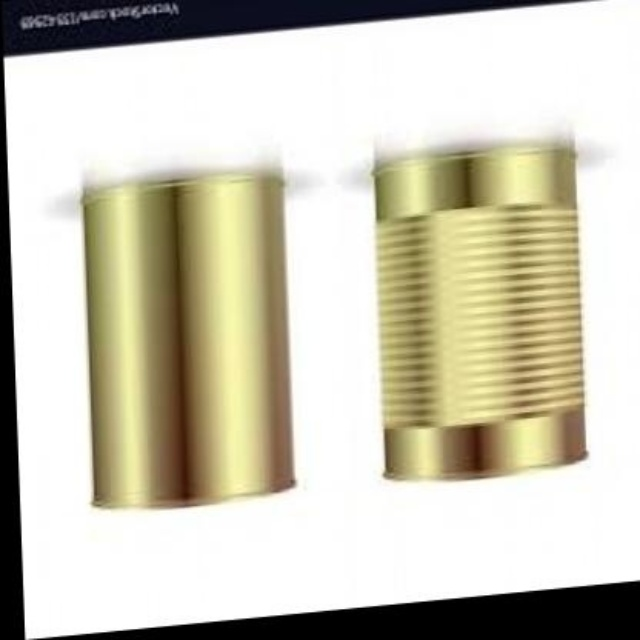trash: (374, 145, 585, 478), (83, 172, 292, 505)
